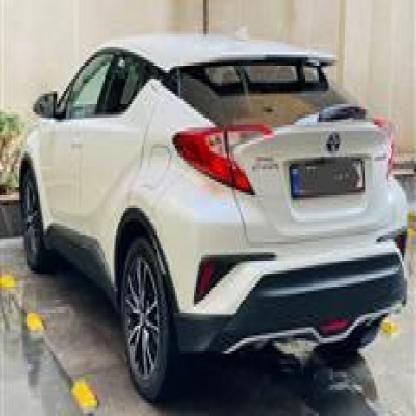Car: (9, 50, 411, 406)
